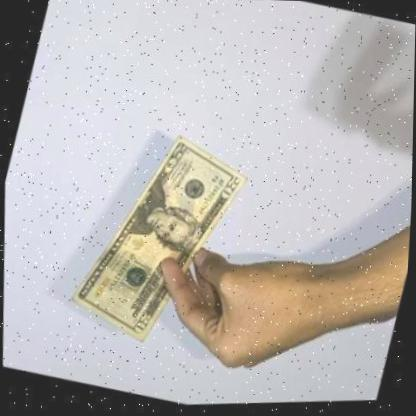twenty-front: (51, 111, 263, 368)
